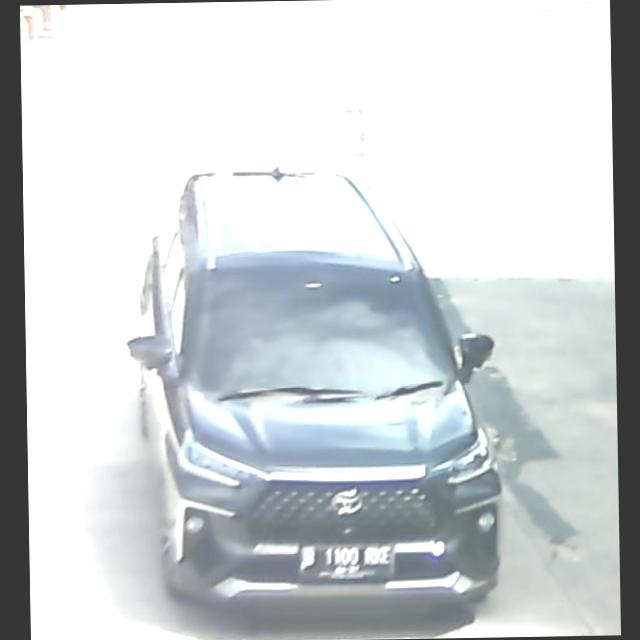plate: (297, 538, 403, 584)
